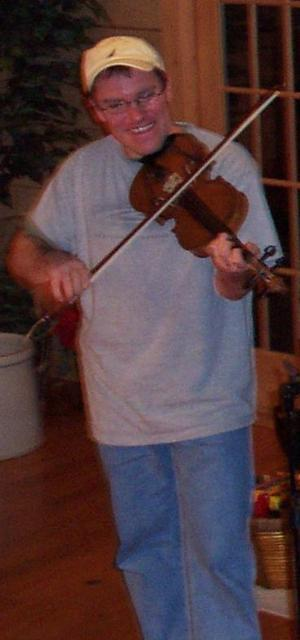person: (5, 37, 284, 640)
